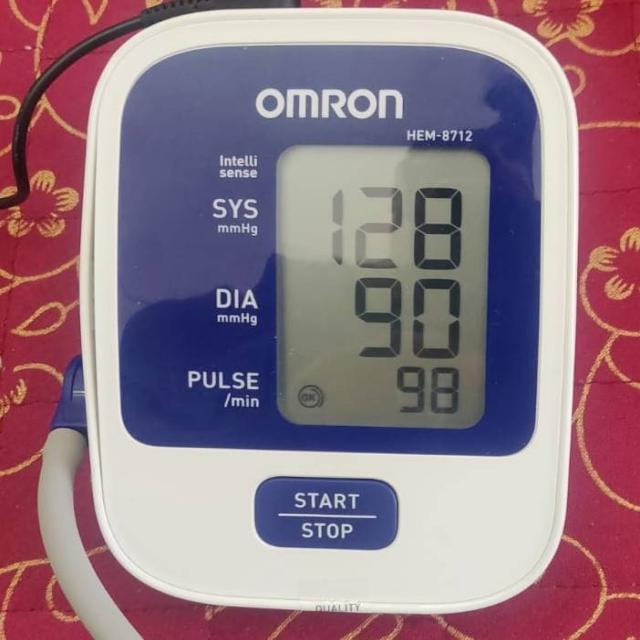bp: (46, 7, 639, 639)
